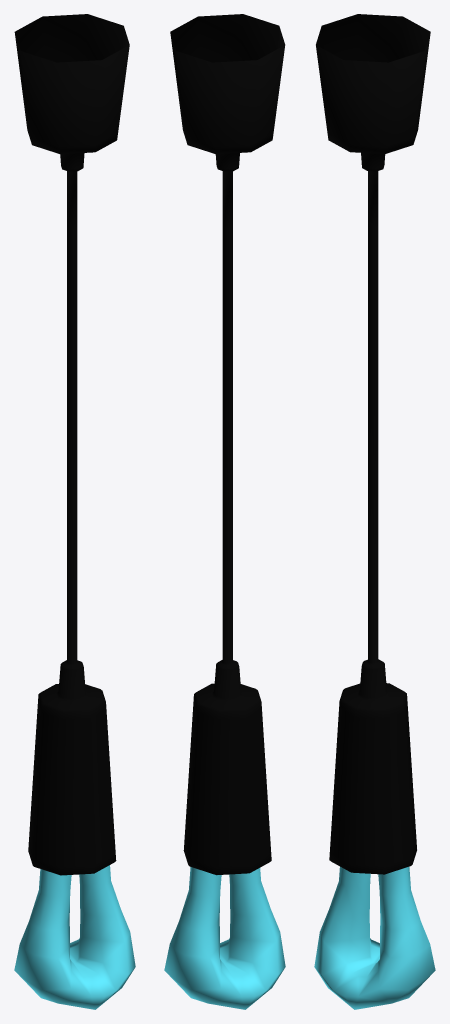
The model's file is SM_Pendantlight_006_C.FBX.
3 renders of one model, left to right at view 1: azimuth 30°, elevation 25°; view 2: azimuth 210°, elevation 25°; view 3: azimuth 330°, elevation 25°, orthographic.
Parts seen in each view (by area): view 1: SM_Pendantlight_006_C; view 2: SM_Pendantlight_006_C; view 3: SM_Pendantlight_006_C.
Part boxes in pixels (x1,y1,x2,y2): SM_Pendantlight_006_C: (14,14,135,1009); SM_Pendantlight_006_C: (164,14,285,1009); SM_Pendantlight_006_C: (314,14,435,1009).
Bounding box in the file's own units: 12.19 × 12.34 × 108.
